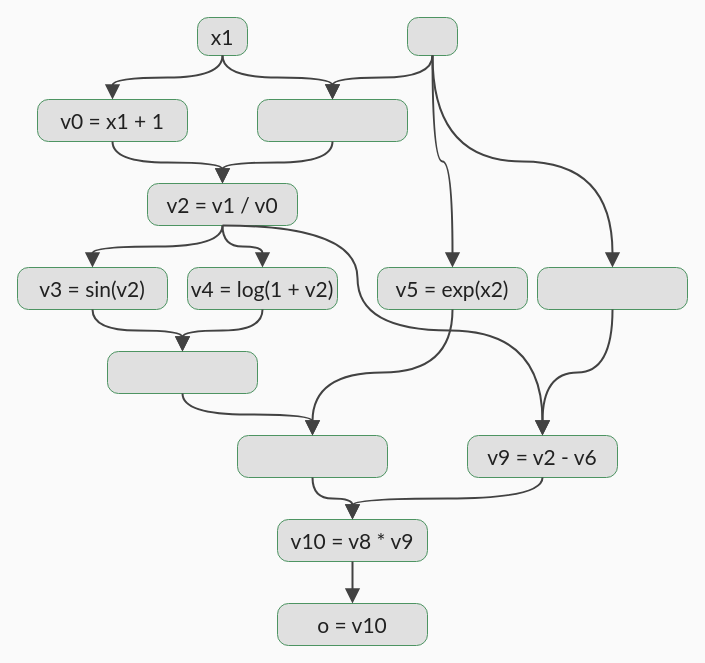
Image size: 705x663. Some labels were removed from this diagram. Here are the shapes that lost their labels. From the top down, the centre of each, then its label:
the point at 432,36: x2
the point at 332,120: v1 = x1 * x2
the point at 612,288: v6 = tanh(x2)
the point at 182,372: v7 = v3 + v4
the point at 312,456: v8 = v7 - v5
